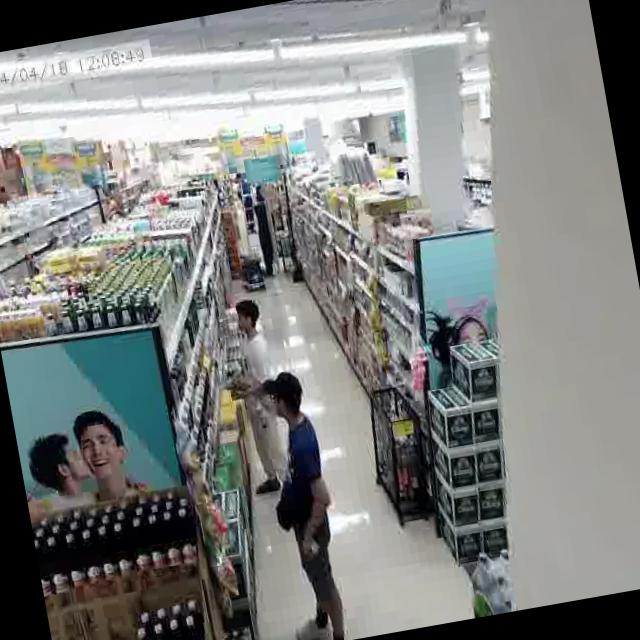shoplifting: (241, 361, 366, 640)
